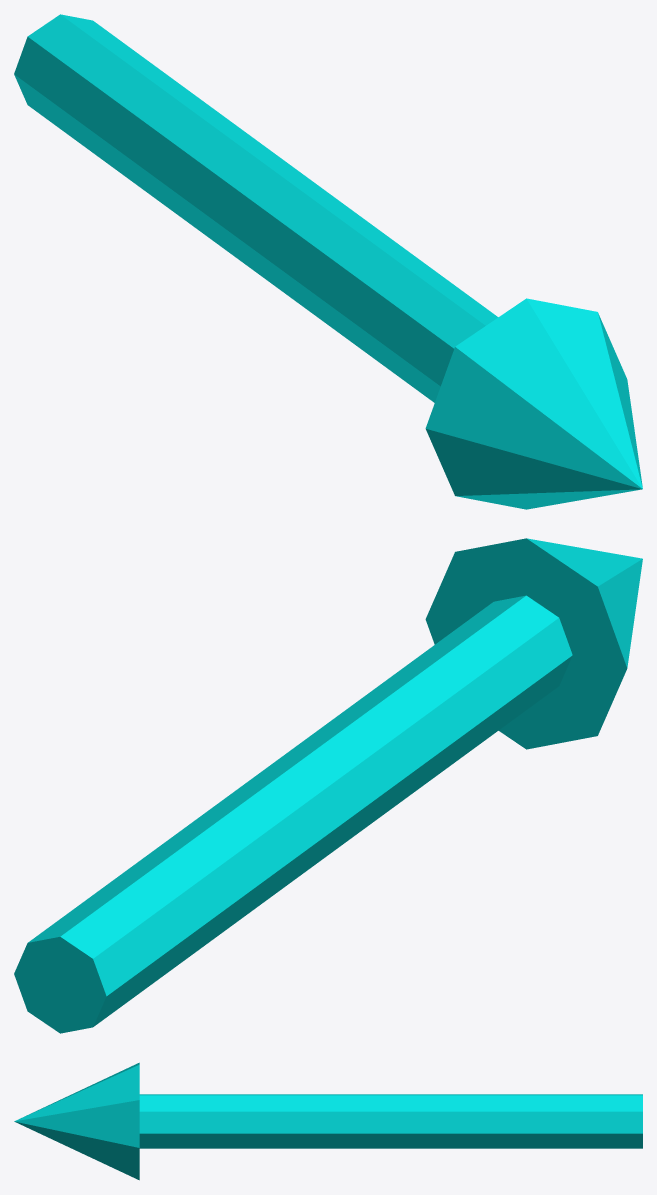
File: arrow_z_cyan.dae
The picture shows the model from 3 angles, top to bottom: view 1: azimuth 30°, elevation 25°; view 2: azimuth 150°, elevation 25°; view 3: azimuth 270°, elevation 25°; orthographic projection. The views are drawn at different scales.
Parts seen in each view (by area): view 1: ArrowA; view 2: ArrowA; view 3: ArrowA.
Part boxes in pixels (left/top/right/bottom): ArrowA: left=14, top=14, right=642, bottom=509; ArrowA: left=14, top=538, right=642, bottom=1033; ArrowA: left=14, top=1062, right=642, bottom=1180.
Bounding box in the file's own units: 1 × 1 × 5.
